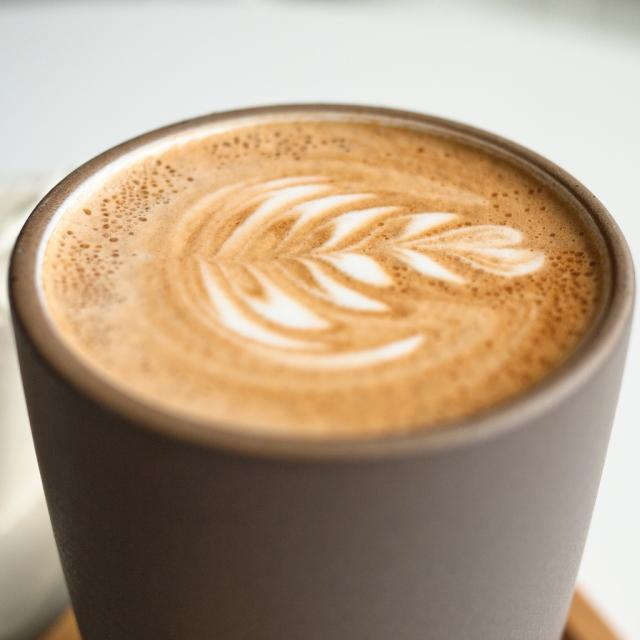Coffee: (41, 116, 598, 435)
